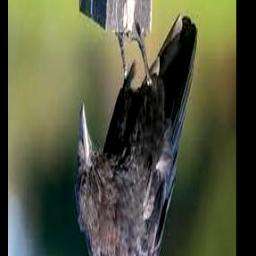Crow: (76, 12, 198, 256)
